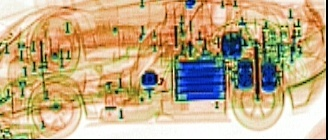powerbank: (170, 54, 232, 101)
